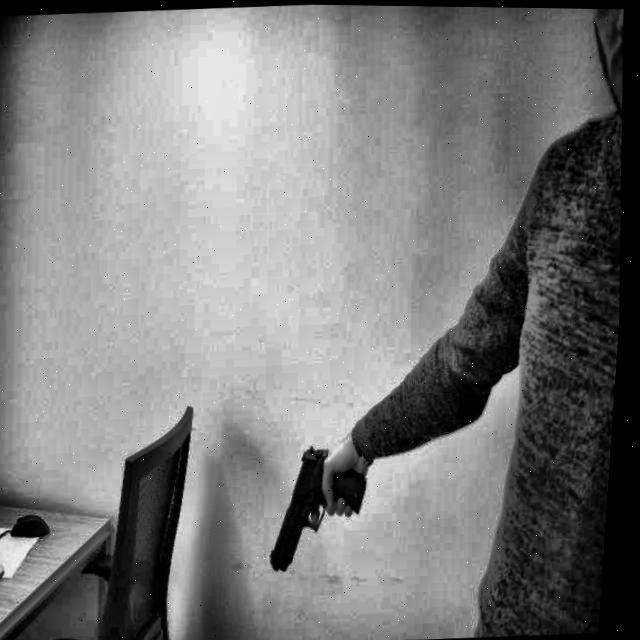pistol: (250, 432, 379, 582)
